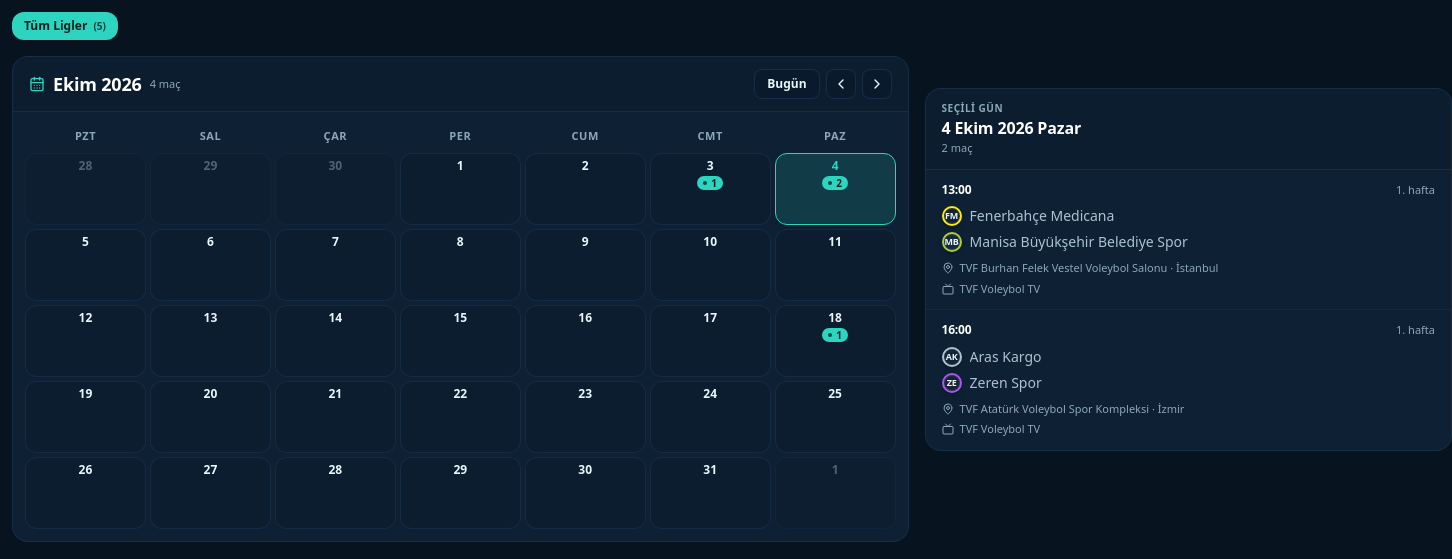
TakvimCalendar › bir güne tıklamak o günün maçlarını gösterir ve URL'yi ?gun= ile günceller
The width and height of the screenshot is (1452, 559).
Click the button "18 1" at (835, 340), box [775,304,896,376]
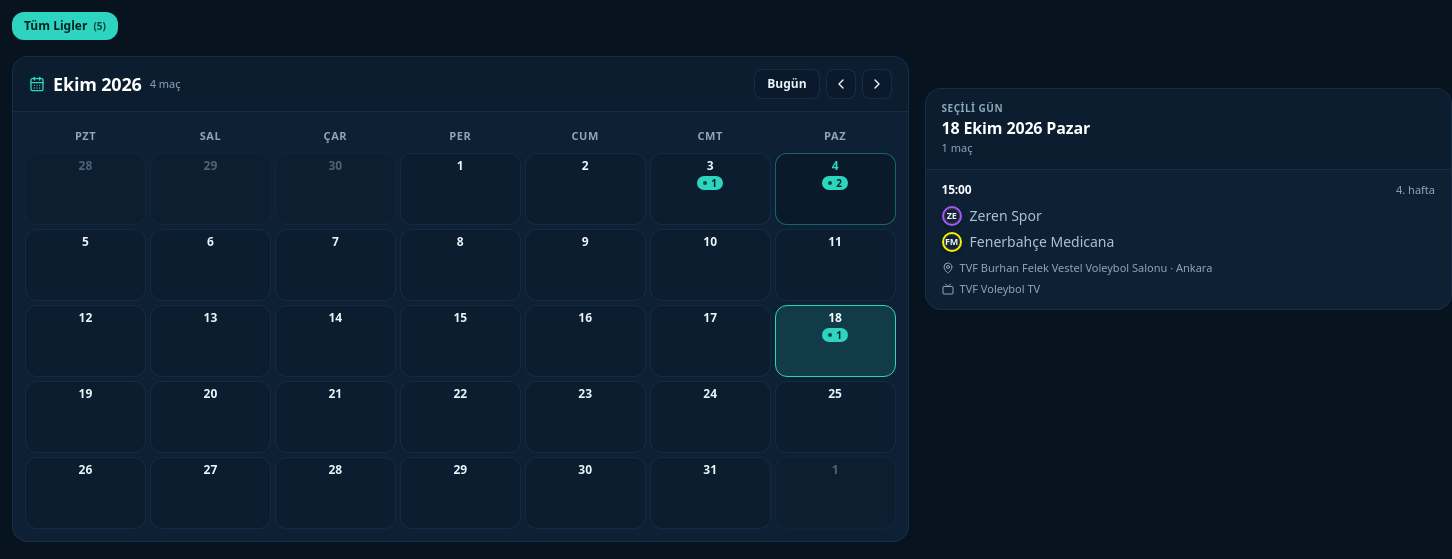
Result: the heading with test id "selected-day-label" reads "18 Ekim 2026 Pazar" at [942,117,1090,139]
Result: the number of list items with test id "match-row" is 1 at [926,170,1451,309]
Result: the list item with test id "match-row" shows "4. hafta" at [1396,182,1435,196]
